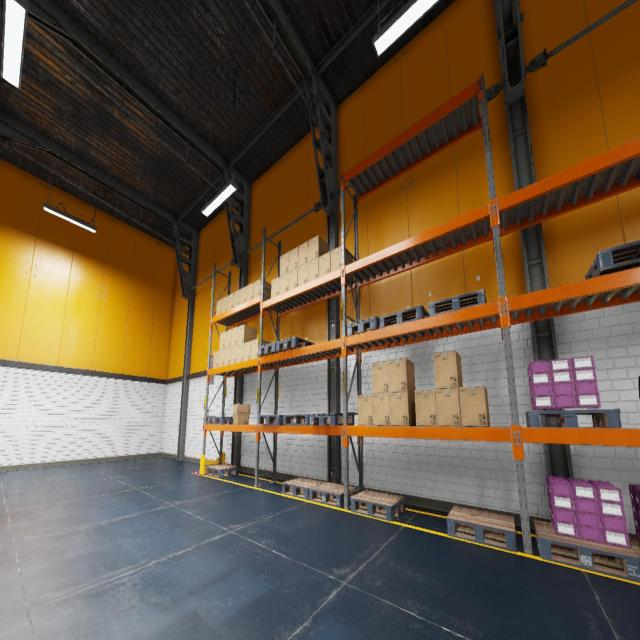box: (459, 386, 490, 426), (434, 350, 462, 389), (435, 388, 462, 426), (388, 358, 415, 393), (390, 391, 416, 426), (414, 389, 438, 426), (330, 246, 353, 279), (308, 235, 329, 262), (373, 393, 390, 425), (372, 361, 389, 393), (358, 394, 373, 426), (237, 324, 256, 344), (250, 338, 268, 359), (232, 404, 250, 424), (253, 278, 271, 298), (319, 251, 330, 277), (298, 240, 308, 266), (288, 246, 298, 272), (308, 257, 318, 282), (298, 263, 308, 286), (288, 268, 298, 290), (280, 252, 288, 276), (279, 273, 288, 294), (271, 276, 279, 298), (243, 341, 251, 361), (230, 326, 238, 346), (236, 343, 244, 362), (230, 345, 237, 364), (246, 282, 253, 301), (240, 286, 247, 304), (233, 289, 240, 307), (225, 329, 231, 348), (219, 331, 225, 350), (224, 347, 230, 365), (218, 349, 224, 367), (212, 351, 218, 368), (227, 293, 233, 310), (222, 296, 228, 313), (216, 299, 222, 315), (638, 376, 640, 399)
pallets: (533, 520, 640, 582), (446, 506, 517, 552), (585, 240, 640, 279), (526, 409, 622, 428), (350, 489, 405, 521), (428, 289, 486, 317), (309, 482, 356, 507), (379, 305, 429, 328), (282, 478, 326, 500), (347, 316, 379, 336), (276, 336, 315, 352), (309, 413, 354, 426), (206, 464, 238, 478), (283, 414, 318, 425), (258, 342, 285, 356), (258, 414, 290, 425), (628, 536, 640, 556), (207, 416, 233, 424)
